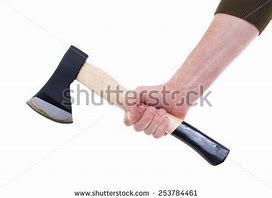axe: (24, 42, 231, 167)
